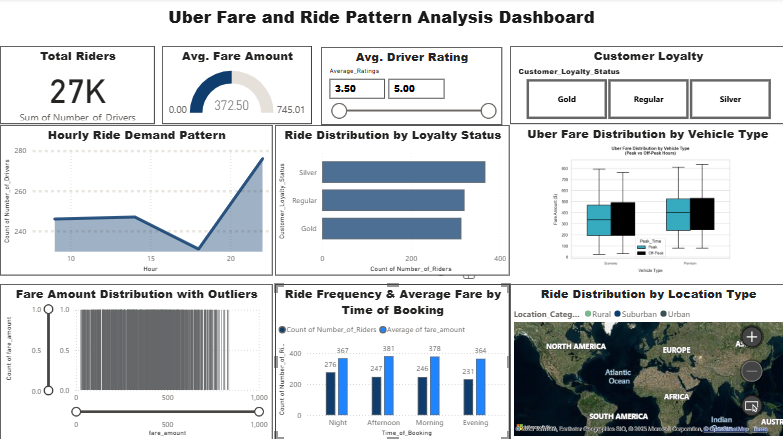

Layout of this report page (visuals, bound fields, positions):
{"tool":"powerbi","page":{"name":"Page 1","canvas":[1280,720],"ordinal":0},"visuals":[{"type":"areaChart","title":"Hourly Ride Demand Pattern","fields":{"Category":["uber_final_cleaned.Hour"],"Y":["CountNonNull(uber_final_cleaned.Number_of_Drivers)"]},"box":[0,206.5,443.7,245.4],"z":0},{"type":"clusteredColumnChart","title":"Fare Amount Distribution with Outliers","fields":{"Y":["CountNonNull(uber_final_cleaned.fare_amount)"],"Category":["uber_final_cleaned.fare_amount"]},"box":[0,466.2,443.7,253.5],"z":1000},{"type":"clusteredColumnChart","title":"Ride Frequency & Average Fare by Time of Booking","fields":{"Y":["CountNonNull(uber_final_cleaned.Number_of_Riders)","Avg(uber_final_cleaned.fare_amount)"],"Category":["uber_final_cleaned.Time_of_Booking"]},"box":[447.8,466.2,382.4,253.5],"z":2000},{"type":"barChart","title":"Ride Distribution by Loyalty Status","fields":{"Category":["uber_final_cleaned.Customer_Loyalty_Status"],"Y":["CountNonNull(uber_final_cleaned.Number_of_Riders)"]},"box":[447.8,206.5,382.4,245.4],"z":3000},{"type":"card","title":"Total Riders","fields":{"Values":["Sum(uber_final_cleaned.Number_of_Drivers)"]},"box":[0,78.2,252.5,127.1],"z":5000},{"type":"gauge","title":"Avg. Fare Amount","fields":{"Y":["Avg(uber_final_cleaned.fare_amount)"]},"box":[263.9,78.2,244.3,127.1],"z":6000},{"type":"slicer","title":"Avg. Driver Rating","fields":{"Values":["uber_final_cleaned.Average_Ratings"]},"box":[522.9,79.8,294.8,127.1],"z":7000},{"type":"map","title":"Ride Distribution by Location Type","fields":{"Series":["uber_final_cleaned.Location_Category"],"Size":["CountNonNull(uber_final_cleaned.Number_of_Drivers)"]},"box":[830.2,466.2,449.8,253.5],"z":7001},{"type":"slicer","title":"Customer Loyalty","fields":{"Values":["uber_final_cleaned.Customer_Loyalty_Status"]},"box":[830.8,78.2,449.6,127.1],"z":7002},{"type":"textbox","box":[187.3,0,868.2,66.8],"z":7003},{"type":"pythonVisual","title":"Uber Fare Distribution by Vehicle Type","fields":{"Values":["uber_final_cleaned.fare_amount","uber_final_cleaned.Vehicle_Type","uber_final_cleaned.Peak_Time"]},"box":[830.8,206.5,449.2,245.4],"z":7004}]}

Visuals, with their boxes in screenshot pixels (x1, y1, x2, y2), scaled from the page's 1280x720 canvas onto the 783x439 screenshot:
"Hourly Ride Demand Pattern" areaChart: 0,126,271,276
"Fare Amount Distribution with Outliers" clusteredColumnChart: 0,284,271,438
"Ride Frequency & Average Fare by Time of Booking" clusteredColumnChart: 274,284,508,438
"Ride Distribution by Loyalty Status" barChart: 274,126,508,276
"Total Riders" card: 0,48,154,125
"Avg. Fare Amount" gauge: 161,48,311,125
"Avg. Driver Rating" slicer: 320,49,500,126
"Ride Distribution by Location Type" map: 508,284,782,438
"Customer Loyalty" slicer: 508,48,782,125
textbox: 115,0,646,41
"Uber Fare Distribution by Vehicle Type" pythonVisual: 508,126,782,276
